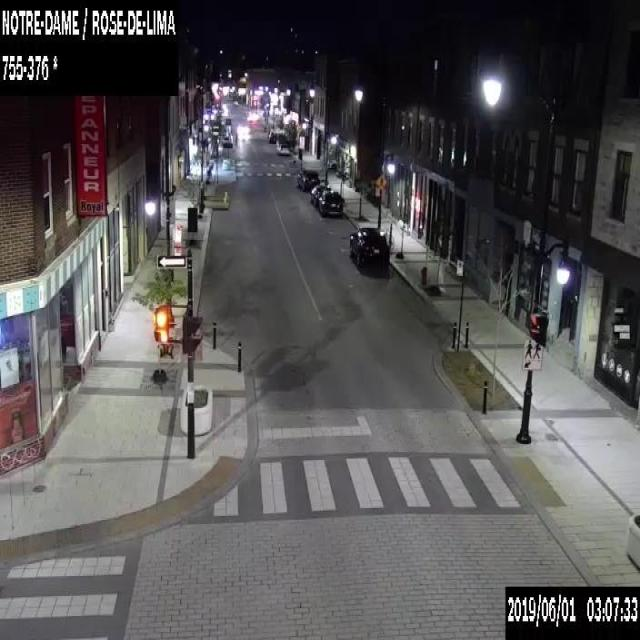vehicle: (348, 226, 389, 275), (318, 190, 344, 218), (296, 169, 319, 191), (310, 184, 330, 206), (275, 143, 290, 154), (221, 135, 232, 148), (268, 130, 276, 143), (224, 117, 230, 124), (232, 100, 237, 105)
